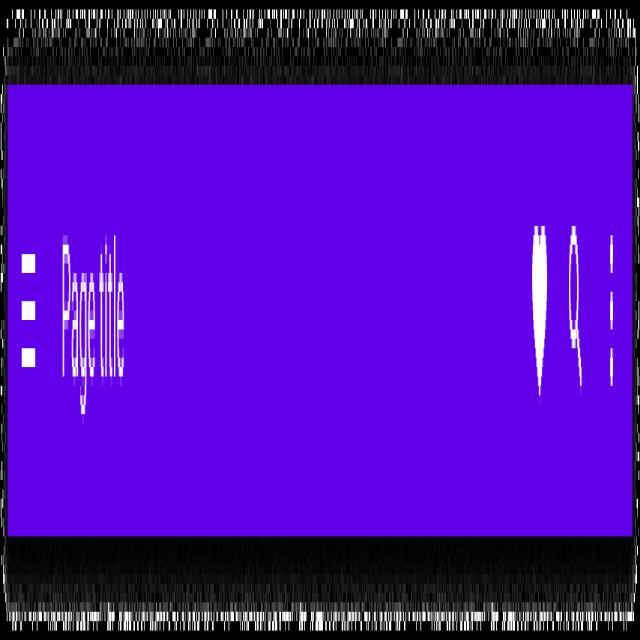QLabel: (61, 217, 126, 423)
VAppBar: (6, 64, 634, 554)
VIcon: (531, 218, 548, 413), (19, 223, 37, 397), (568, 218, 583, 402), (608, 223, 615, 409)
